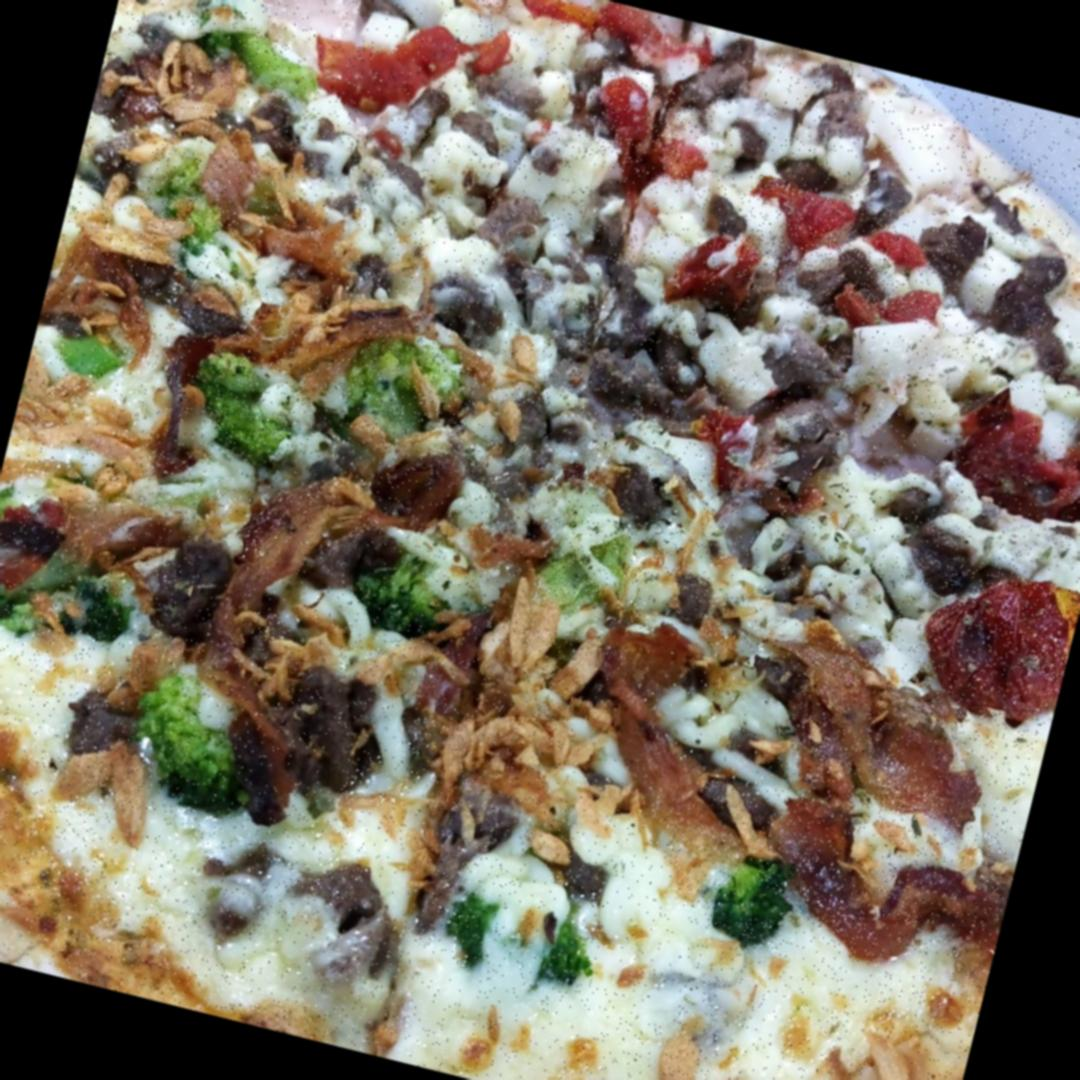Bacon: (749, 626, 1060, 970), (557, 618, 799, 840), (184, 458, 382, 663)
Broccoli: (337, 324, 487, 461), (126, 140, 248, 292), (125, 662, 269, 782), (534, 501, 658, 635), (176, 0, 327, 108), (198, 342, 314, 467), (700, 836, 806, 949)
Pizza: (0, 0, 1080, 1080)
Tomatoes: (734, 175, 974, 329), (307, 0, 516, 134), (918, 560, 1078, 716), (936, 376, 1080, 530), (572, 60, 720, 191)
